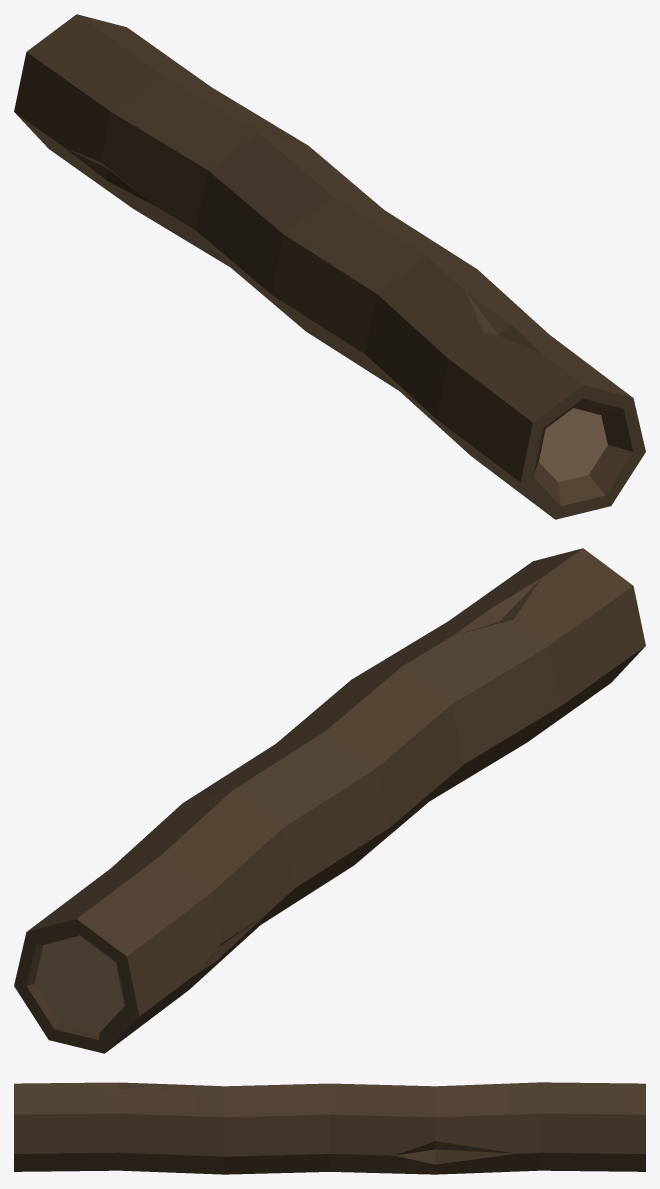
Rendered from Branch9.glb.
The picture shows the model from 3 angles, top to bottom: view 1: azimuth 30°, elevation 25°; view 2: azimuth 150°, elevation 25°; view 3: azimuth 270°, elevation 25°; orthographic projection. The views are drawn at different scales.
Parts seen in each view (by area): view 1: Branch_7; view 2: Branch_7; view 3: Branch_7.
Part boxes in pixels (box(x1,y1,x2,y2)): Branch_7: box(14, 14, 645, 519); Branch_7: box(14, 548, 645, 1053); Branch_7: box(14, 1082, 645, 1174).
Size of the model in its own units: 0.6448 by 0.579 by 4.09.
Materials: 1 (1 with a texture image).
